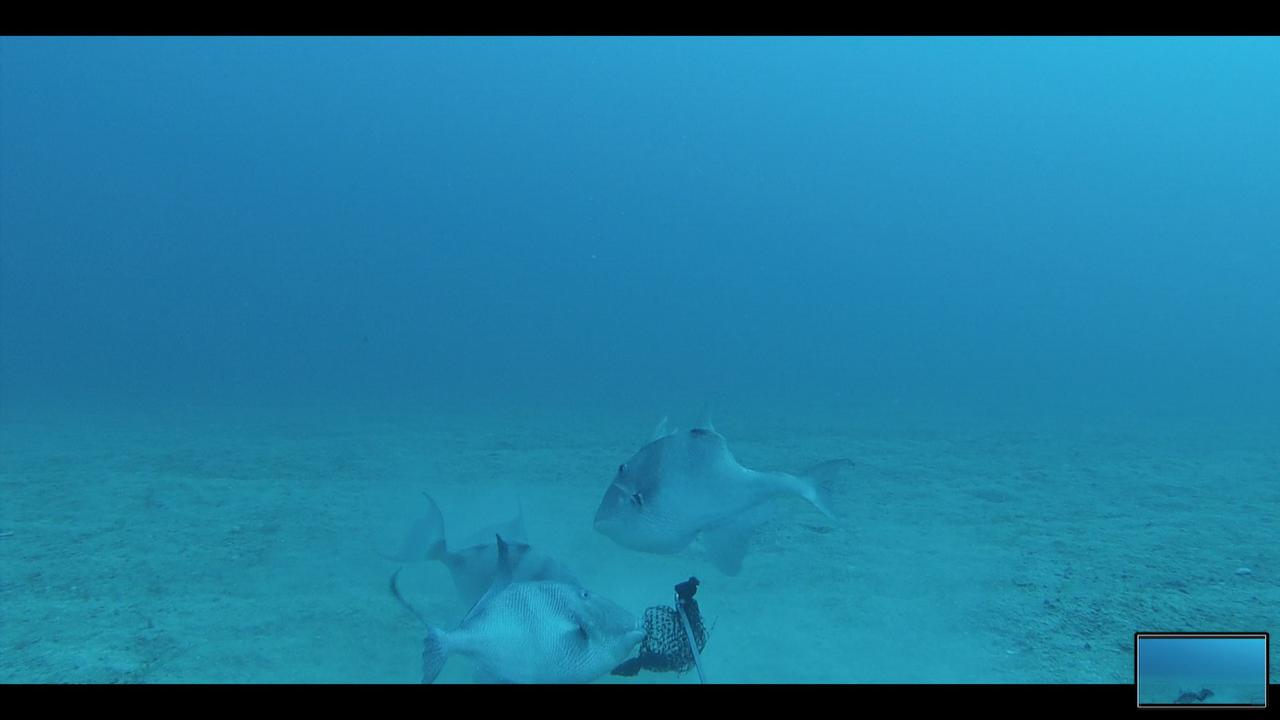balistes: (588, 398, 855, 576), (376, 531, 646, 682), (372, 472, 583, 608)
